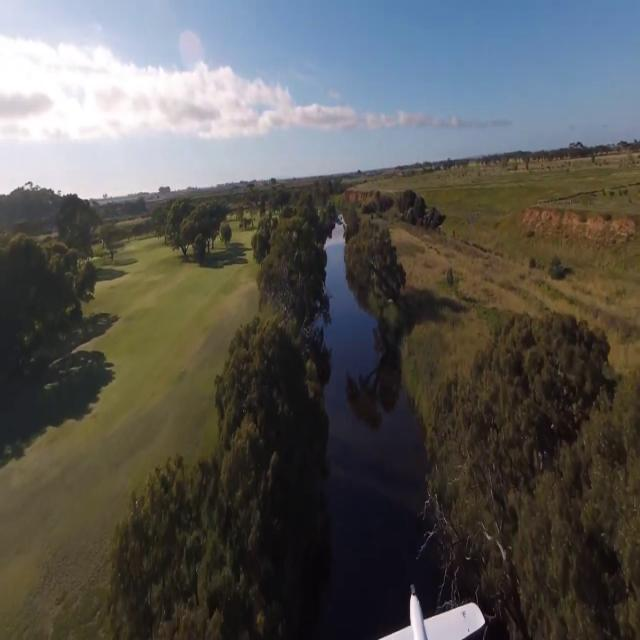iha: (401, 590, 451, 639)
